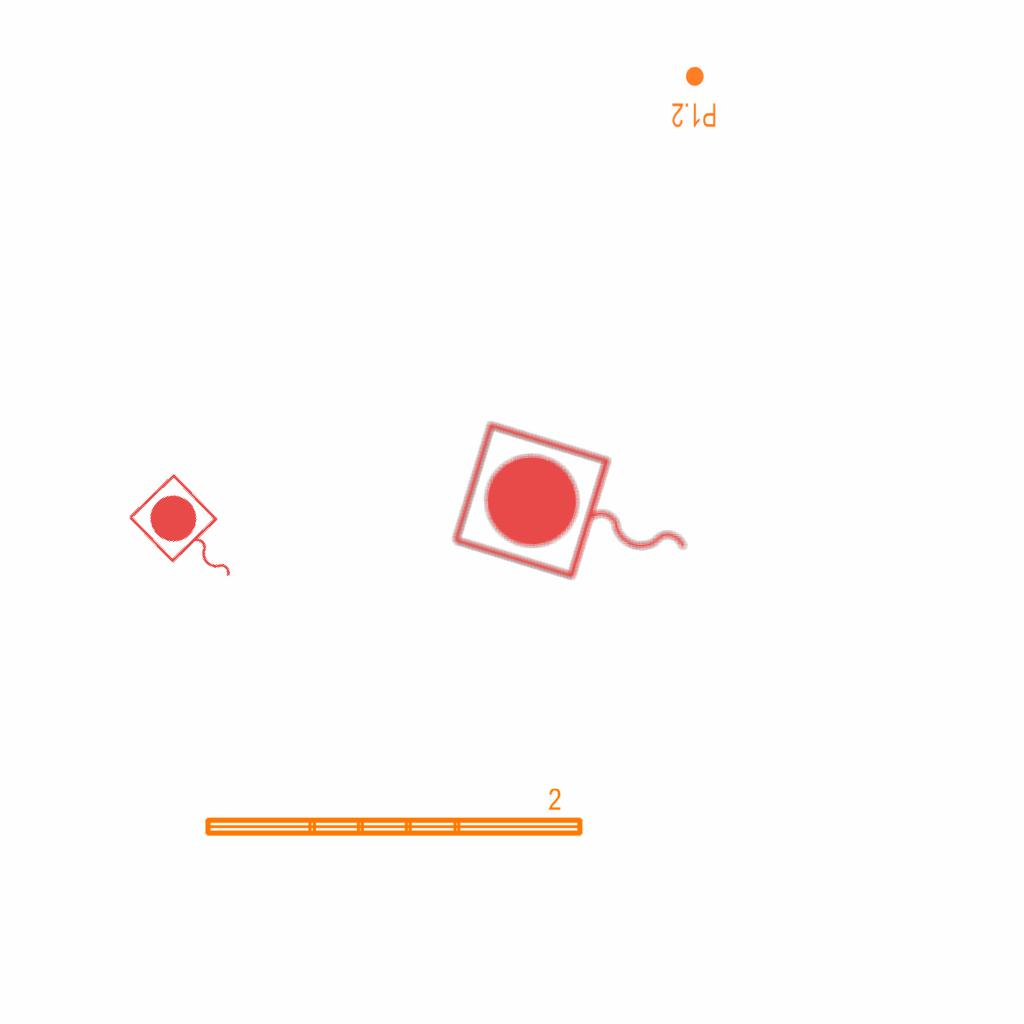Ambulanz_Pendelleuchte_LED: (200, 786, 587, 842)
Downlight_LED_Einbauleuchten_Flur: (671, 65, 717, 129)
Zugtaster: (441, 412, 717, 622), (121, 468, 259, 606)
